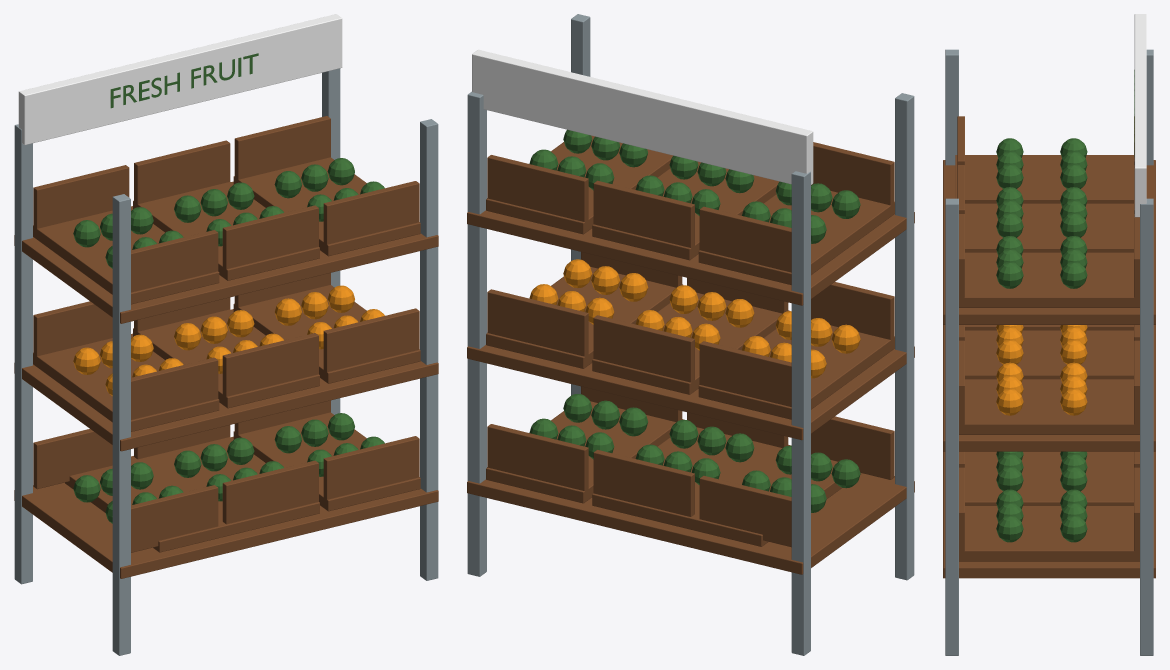
The model's file is source-edit.glb.
3 renders of one model, left to right at view 1: azimuth 30°, elevation 25°; view 2: azimuth 150°, elevation 25°; view 3: azimuth 270°, elevation 25°, orthographic. The views are drawn at different scales.
Visible parts, largest first — view 1: Produce_Header, Shelf, Post, Post.002, Post.001, Shelf.002, Shelf.001, Crate_Base.007, Crate_Base.004, Crate_Lip.015, Crate_Lip.009, Crate_Lip.005 (+24 smaller); view 2: Produce_Header, Shelf, Post.001, Post, Post.003, Shelf.001, Shelf.002, Crate_Lip.010, Crate_Lip.012, Crate_Lip, Crate_Lip.016, Crate_Lip.006 (+36 smaller); view 3: Crate_Base.003, Crate_Base.006, Crate_Base, Post.002, Post.003, Crate_Base.007, Crate_Base.008, Crate_Base.005, Crate_Base.002, Shelf.002, Shelf, Shelf.001 (+51 smaller).
Boxes of the visible parts, box(x1,y1,x2,y2) form: Produce_Header: box(18, 14, 342, 145); Shelf: box(14, 429, 438, 578); Post: box(112, 194, 130, 655); Post.002: box(420, 119, 438, 580); Post.001: box(14, 124, 32, 584); Shelf.002: box(14, 174, 438, 323); Shelf.001: box(14, 302, 438, 451); Crate_Base.007: box(33, 208, 219, 304); Crate_Base.004: box(33, 335, 219, 431); Crate_Lip.015: box(222, 205, 318, 273); Crate_Lip.009: box(222, 333, 318, 401); Crate_Lip.005: box(323, 436, 419, 499); Produce_Header: box(472, 49, 813, 184); Shelf: box(467, 411, 914, 574); Post.001: box(791, 171, 810, 655); Post: box(895, 93, 914, 580); Post.003: box(467, 91, 486, 576); Shelf.001: box(467, 276, 914, 440); Shelf.002: box(467, 142, 914, 305); Crate_Lip.010: box(593, 315, 694, 386); Crate_Lip.012: box(487, 289, 588, 359); Crate_Lip: box(487, 155, 588, 225); Crate_Lip.016: box(593, 180, 694, 252); Crate_Lip.006: box(487, 424, 588, 493); Crate_Base.003: box(959, 506, 1139, 561); Crate_Base.006: box(959, 379, 1139, 434); Crate_Base: box(959, 252, 1139, 307); Post.002: box(945, 198, 958, 655); Post.003: box(1140, 198, 1153, 655); Crate_Base.007: box(955, 155, 1133, 203); Crate_Base.008: box(965, 203, 1133, 252); Crate_Base.005: box(965, 330, 1133, 379); Crate_Base.002: box(965, 457, 1133, 505); Shelf.002: box(943, 160, 1155, 324); Shelf: box(943, 451, 1155, 578); Shelf.001: box(943, 325, 1155, 451).
Bounding box in the file's own units: 1.2 × 1.77 × 0.7.
